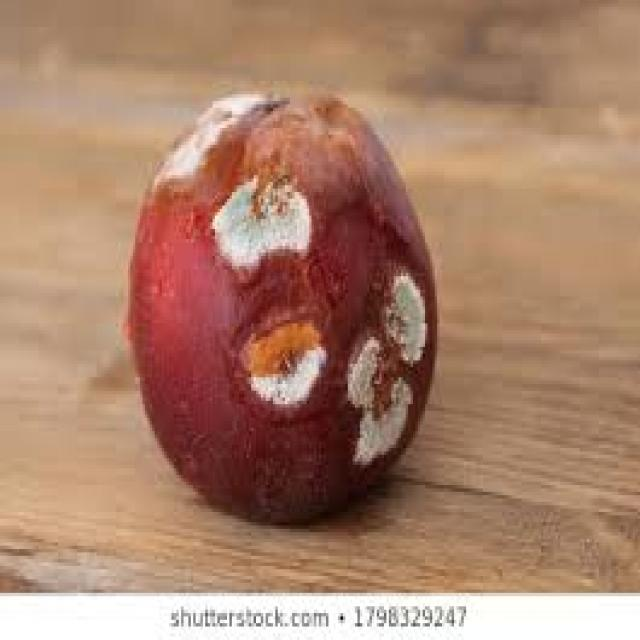organic waste: (126, 88, 432, 522)
